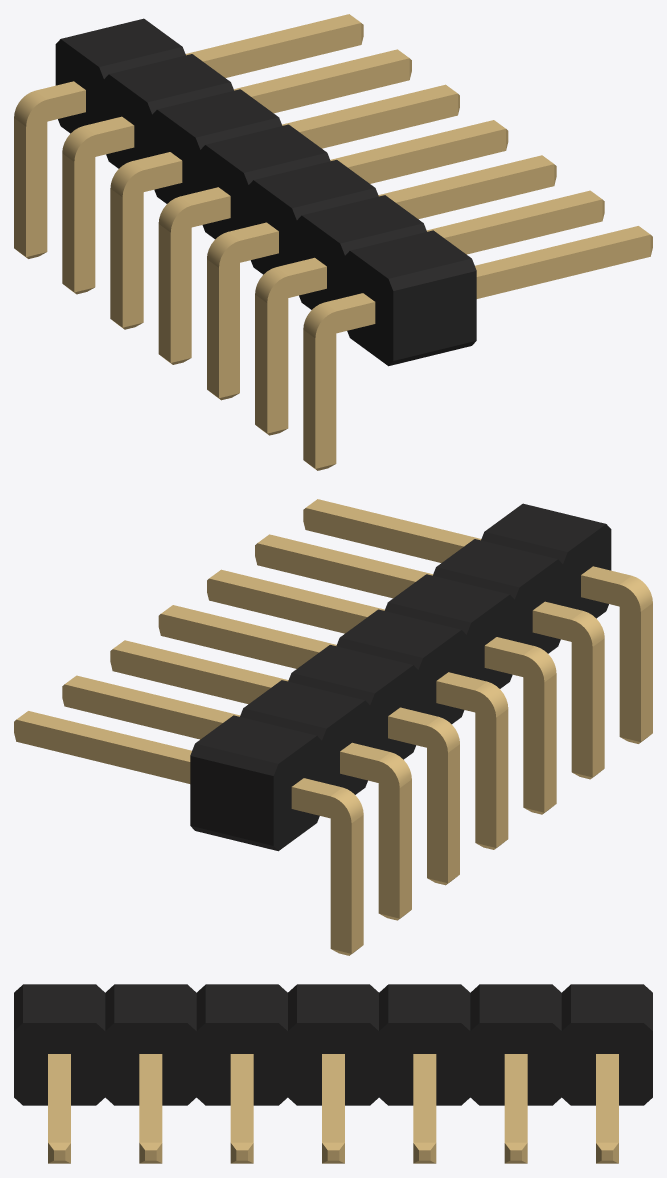
File: kc-pinheader_1x07_p2.54mm_horizontal.glb
3 renders of one model, top to bottom at view 1: azimuth 30°, elevation 25°; view 2: azimuth 150°, elevation 25°; view 3: azimuth 270°, elevation 25°, orthographic. The views are drawn at different scales.
Visible parts, largest first — view 1: 0.75_0.5_0.25_0.9, 0_0_0_0; view 2: 0.75_0.5_0.25_0.9, 0_0_0_0; view 3: 0_0_0_0, 0.75_0.5_0.25_0.9.
Boxes of the visible parts, <box> form: 0.75_0.5_0.25_0.9: <box>14,14,652,470</box>; 0_0_0_0: <box>55,18,476,366</box>; 0.75_0.5_0.25_0.9: <box>14,499,652,955</box>; 0_0_0_0: <box>190,503,611,851</box>; 0_0_0_0: <box>14,984,652,1105</box>; 0.75_0.5_0.25_0.9: <box>48,1054,618,1163</box>.
Size of the model in its own units: 1.04 by 0.554 by 1.78.
